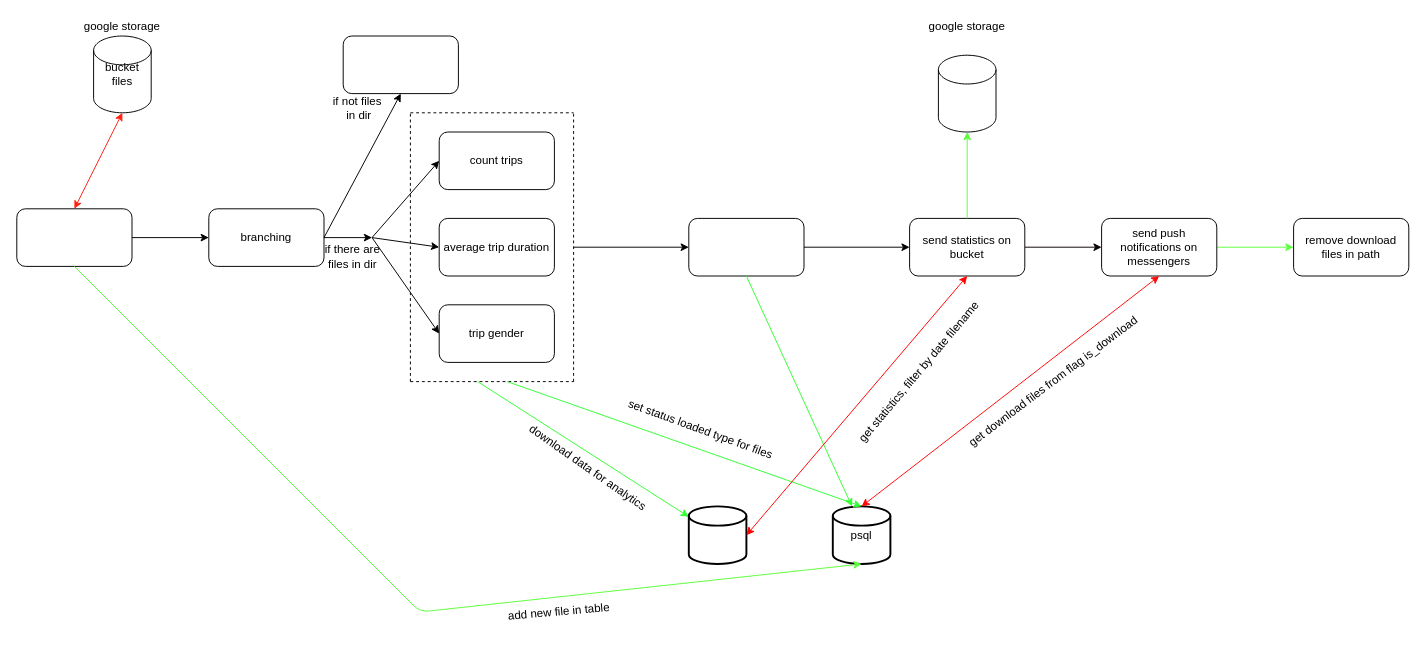
Image size: 1426x648. Some labels were removed from this diagram. Each missing label, with the centre of its shape:
"bucket statistics" goes at point 966,93.
"Check files on bucket" goes at point 74,237.
"clickhouse" goes at point 717,534.
"plug" goes at point 400,64.
"set is_download file" goes at point 746,246.
